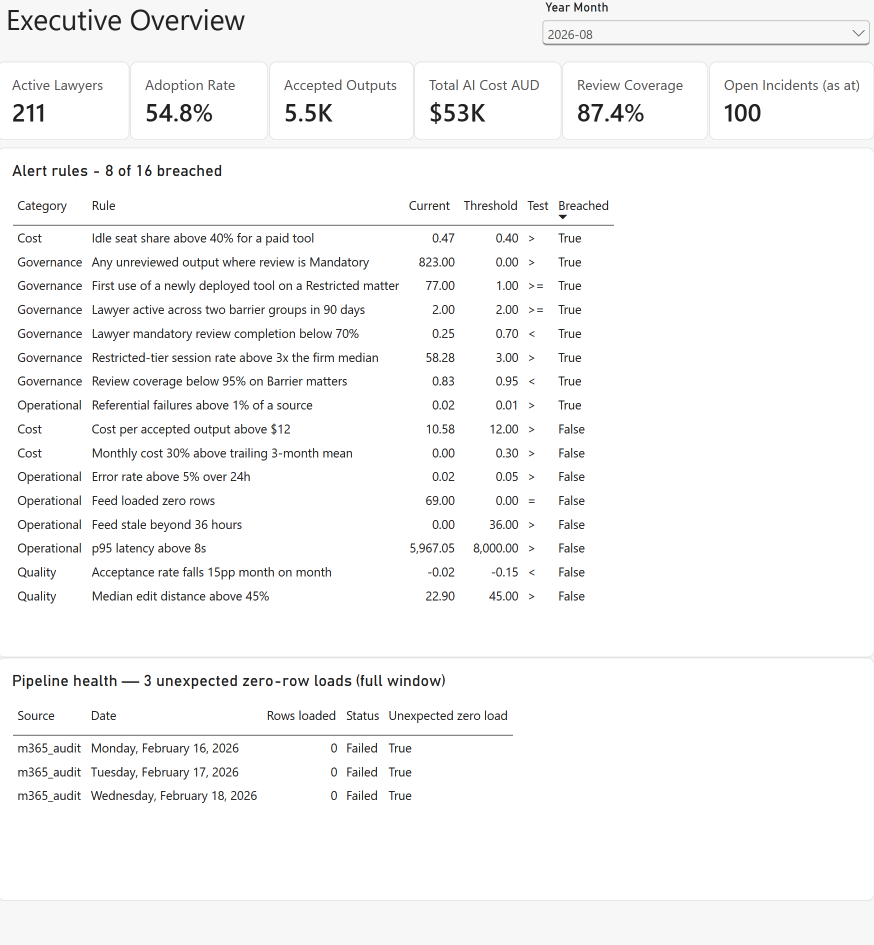

Layout of this report page (visuals, bound fields, positions):
{"tool":"powerbi","page":{"name":"1 Executive Overview","canvas":[1920,1080],"ordinal":0},"visuals":[{"type":"textbox","box":[10,0,280,280],"z":0},{"type":"slicer","fields":{"Values":["dim_date.Year Month"]},"box":[612.2,0,380.7,92.2],"z":1},{"type":"cardVisual","title":"Monthly active lawyers","fields":{"Data":["_Measures.Active Lawyers"]},"box":[0,70.2,150.3,90],"z":2},{"type":"cardVisual","title":"Adoption rate","fields":{"Data":["_Measures.Adoption Rate"]},"box":[150.3,70.2,156.9,90],"z":3},{"type":"cardVisual","title":"Adoption rate","fields":{"Data":["_Measures.Accepted Outputs"]},"box":[307.2,70.2,164.6,90],"z":4},{"type":"cardVisual","title":"Total AI cost","fields":{"Data":["_Measures.Total AI Cost AUD"]},"box":[471.8,70.2,167.9,90],"z":5},{"type":"cardVisual","title":"Mandatory review coverage","fields":{"Data":["_Measures.Review Coverage"]},"box":[639.6,70.2,165.7,90],"z":6},{"type":"cardVisual","title":"Open incidents (as at)","fields":{"Data":["_Measures.Open Incidents (as at)"]},"box":[805.3,70.2,187.6,90],"z":7},{"type":"tableEx","fields":{"Values":["vw_alert_status.category","vw_alert_status.rule_name","vw_alert_status.current_value","vw_alert_status.threshold_value","vw_alert_status.comparison","vw_alert_status.is_breached"]},"box":[0,167.9,992.9,577.1],"z":8},{"type":"tableEx","title":"Pipeline health — 3 unexpected zero-row loads (full window)","fields":{"Values":["vw_pipeline_health.source_system","vw_pipeline_health.run_date","vw_pipeline_health.rows_loaded","vw_pipeline_health.run_status","vw_pipeline_health.is_unexpected_zero_load"]},"box":[0,745,992.9,275.4],"z":9}]}

Visuals, with their boxes on the page's 1920x1080 design canvas (x1, y1, x2, y2). These are canvas units, not pixel positions in the 874x945 screenshot, which may show the page scaled, cropped or inside an application window:
textbox: [left=10, top=0, right=290, bottom=280]
slicer - dim_date.Year Month: [left=612, top=0, right=993, bottom=92]
"Monthly active lawyers" cardVisual: [left=0, top=70, right=150, bottom=160]
"Adoption rate" cardVisual: [left=150, top=70, right=307, bottom=160]
"Adoption rate" cardVisual: [left=307, top=70, right=472, bottom=160]
"Total AI cost" cardVisual: [left=472, top=70, right=640, bottom=160]
"Mandatory review coverage" cardVisual: [left=640, top=70, right=805, bottom=160]
"Open incidents (as at)" cardVisual: [left=805, top=70, right=993, bottom=160]
tableEx - vw_alert_status.category x vw_alert_status.rule_name: [left=0, top=168, right=993, bottom=745]
"Pipeline health — 3 unexpected zero-row loads (full window)" tableEx: [left=0, top=745, right=993, bottom=1020]
